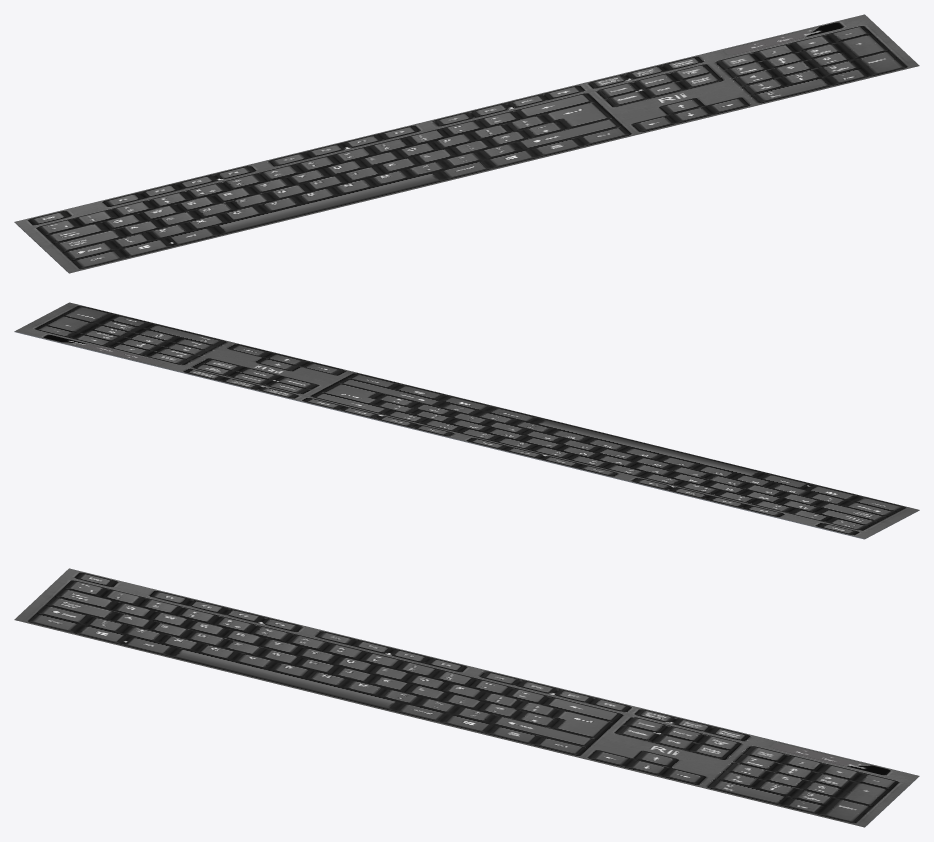
File: Keyboard 1.fbx
The picture shows the model from 3 angles, top to bottom: view 1: azimuth 30°, elevation 25°; view 2: azimuth 150°, elevation 25°; view 3: azimuth 330°, elevation 25°; orthographic projection.
Parts seen in each view (by area): view 1: Cube.027; view 2: Cube.027; view 3: Cube.027.
Part boxes in pixels (left/top/right/bottom): Cube.027: left=14, top=14, right=919, bottom=273; Cube.027: left=14, top=302, right=919, bottom=539; Cube.027: left=14, top=568, right=919, bottom=827.
Bounding box in the file's own units: 748 × 9.74 × 84.42.
Materials: 2 (1 with a texture image).
